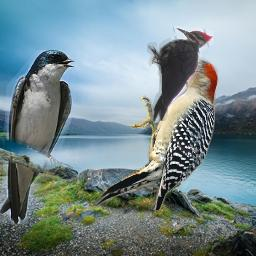Swallow: (0, 50, 76, 224)
Woodpecker: (91, 50, 235, 210), (147, 26, 214, 121)
